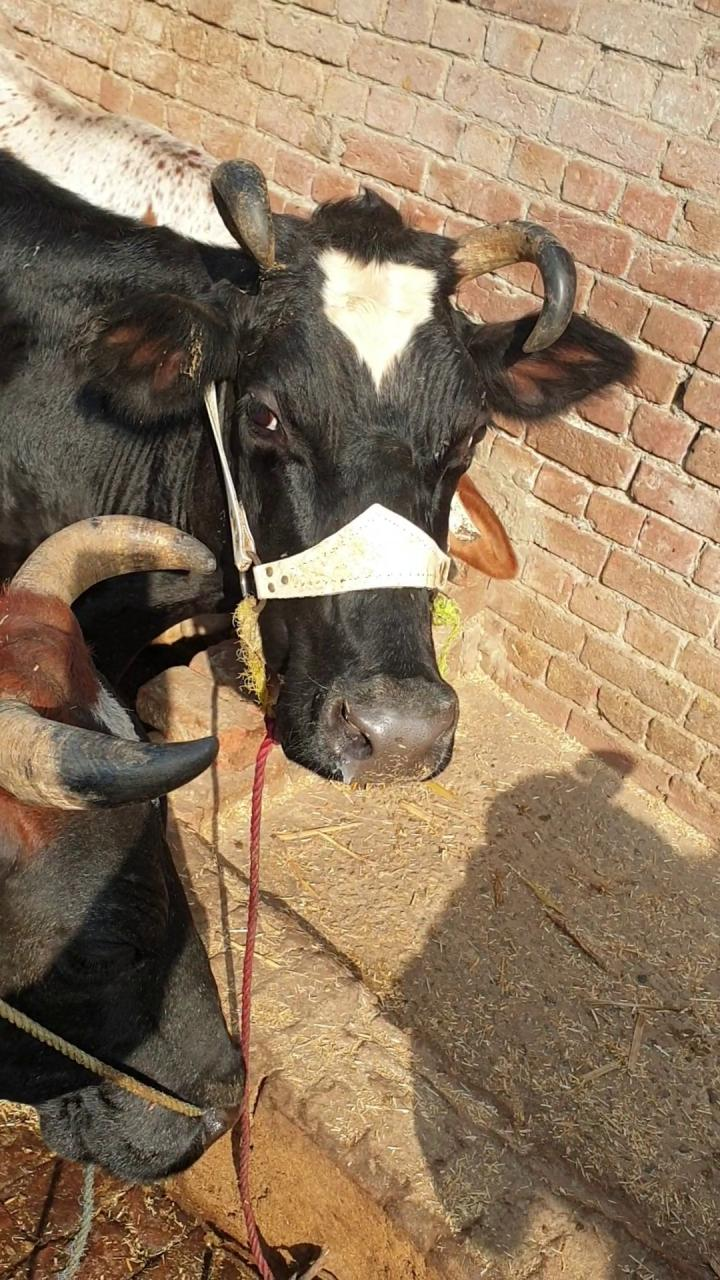cows: (16, 540, 262, 1228), (240, 220, 517, 810)
